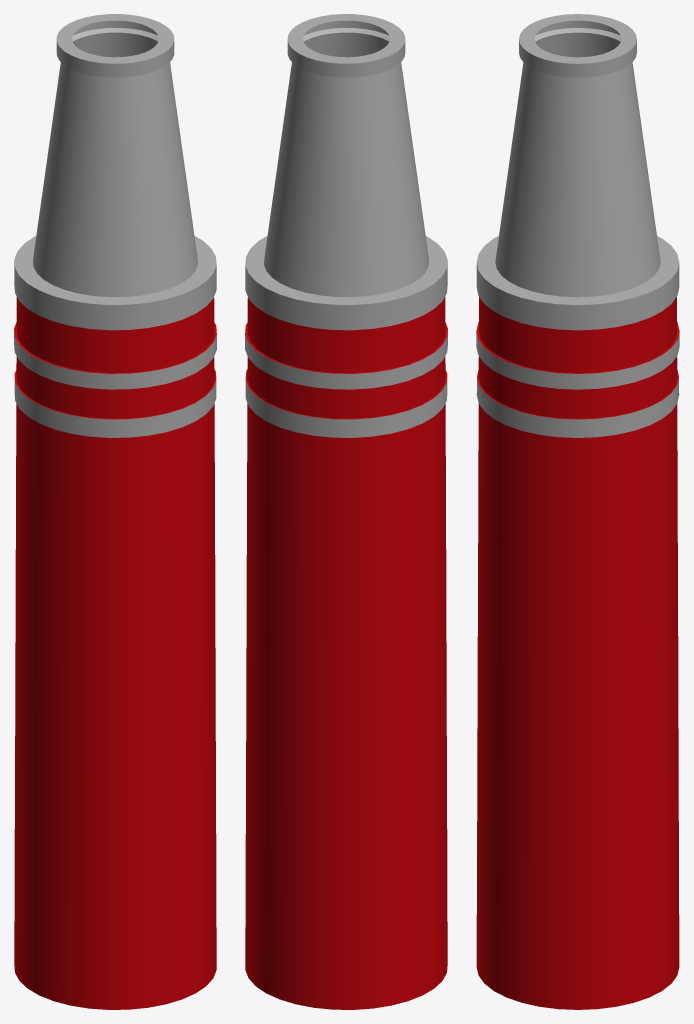
Rendered from firehose.fbx.
The picture shows the model from 3 angles, left to right: view 1: azimuth 30°, elevation 25°; view 2: azimuth 150°, elevation 25°; view 3: azimuth 270°, elevation 25°; orthographic projection.
Visible parts, largest first — view 1: Circle; view 2: Circle; view 3: Circle.
Part boxes in pixels (left/top/right/bottom): Circle: left=14, top=14, right=216, bottom=1009; Circle: left=245, top=14, right=447, bottom=1009; Circle: left=476, top=14, right=679, bottom=1009.
Bounding box in the file's own units: 201 × 1010 × 201.
